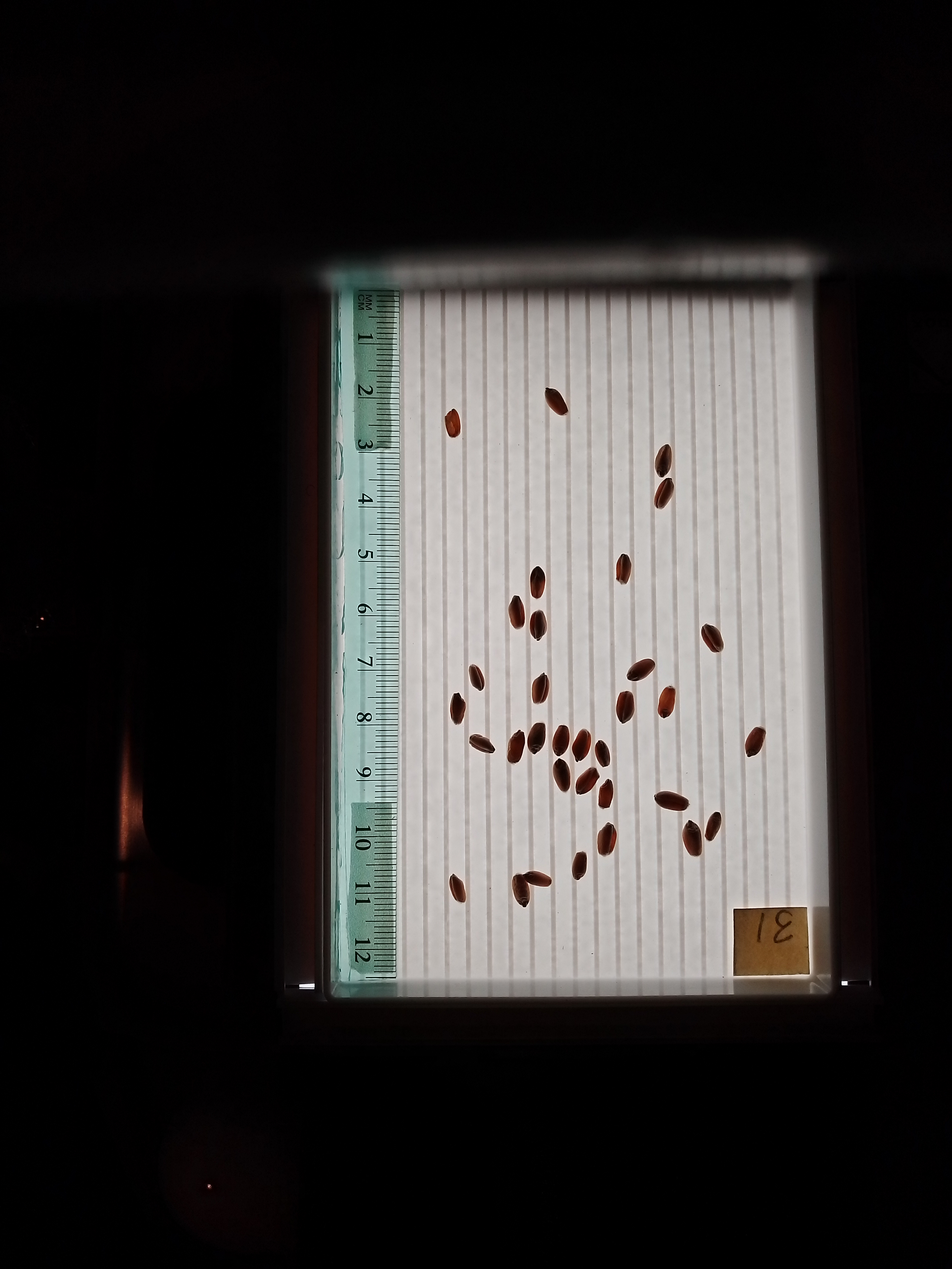seed mask: (683, 821, 702, 857), (701, 624, 723, 653), (655, 477, 674, 510), (655, 792, 688, 811), (545, 388, 567, 416), (572, 729, 591, 761), (598, 824, 617, 856), (628, 658, 654, 681), (576, 767, 598, 794), (553, 759, 571, 792), (745, 727, 765, 756), (655, 445, 672, 478), (513, 874, 530, 907), (658, 687, 676, 718), (617, 692, 635, 723), (507, 732, 525, 763), (528, 723, 546, 753), (509, 596, 525, 629), (529, 611, 547, 640), (552, 725, 569, 755), (530, 567, 546, 598), (532, 675, 549, 704), (616, 555, 632, 585), (449, 875, 466, 903), (450, 694, 466, 723), (706, 812, 722, 841), (470, 735, 494, 753), (446, 409, 461, 437), (524, 871, 550, 887), (572, 853, 587, 880), (595, 741, 610, 767), (598, 782, 613, 808), (469, 665, 484, 690)
